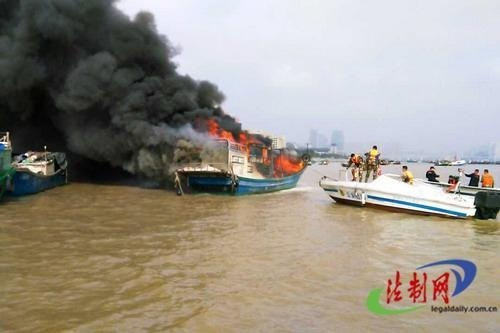fire: (211, 118, 305, 178)
